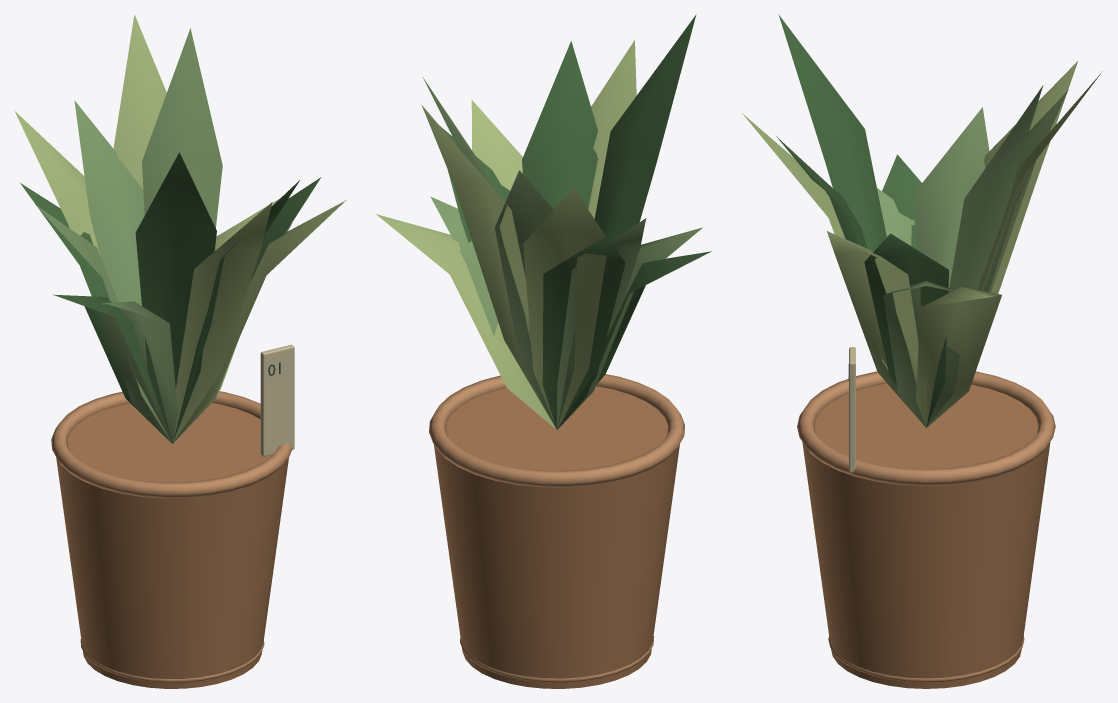
Rendered from plant-a.glb.
The picture shows the model from 3 angles, left to right: view 1: azimuth 30°, elevation 25°; view 2: azimuth 150°, elevation 25°; view 3: azimuth 270°, elevation 25°; orthographic projection. The views are drawn at different scales.
Visible parts, largest first — view 1: plant-a_Plant_Root_0_GH_clay.002, plant-a_Plant_Root_0_GH_leaf.002, plant-a_Plant_Root_0_GH_leaf-light.002, plant-a_Plant_Root_0_GH_leaf-dark.002, plant-a_Plant_Root_0_GH_clay-rim.002, plant-a_Plant_Root_0_GH_ivory-dark.002; view 2: plant-a_Plant_Root_0_GH_clay.002, plant-a_Plant_Root_0_GH_leaf-light.002, plant-a_Plant_Root_0_GH_leaf-dark.002, plant-a_Plant_Root_0_GH_leaf.002, plant-a_Plant_Root_0_GH_clay-rim.002; view 3: plant-a_Plant_Root_0_GH_clay.002, plant-a_Plant_Root_0_GH_leaf.002, plant-a_Plant_Root_0_GH_leaf-light.002, plant-a_Plant_Root_0_GH_leaf-dark.002, plant-a_Plant_Root_0_GH_clay-rim.002, plant-a_Plant_Root_0_GH_ivory-dark.002.
Part boxes in pixels (x1=…): plant-a_Plant_Root_0_GH_clay.002: x1=56, y1=403, x2=288, y2=688; plant-a_Plant_Root_0_GH_leaf.002: x1=36, y1=28, x2=292, y2=443; plant-a_Plant_Root_0_GH_leaf-light.002: x1=14, y1=14, x2=346, y2=443; plant-a_Plant_Root_0_GH_leaf-dark.002: x1=20, y1=152, x2=321, y2=443; plant-a_Plant_Root_0_GH_clay-rim.002: x1=51, y1=391, x2=292, y2=682; plant-a_Plant_Root_0_GH_ivory-dark.002: x1=260, y1=344, x2=294, y2=456; plant-a_Plant_Root_0_GH_clay.002: x1=434, y1=386, x2=679, y2=688; plant-a_Plant_Root_0_GH_leaf-light.002: x1=376, y1=40, x2=636, y2=429; plant-a_Plant_Root_0_GH_leaf-dark.002: x1=439, y1=14, x2=711, y2=429; plant-a_Plant_Root_0_GH_leaf.002: x1=423, y1=77, x2=702, y2=429; plant-a_Plant_Root_0_GH_clay-rim.002: x1=429, y1=374, x2=684, y2=682; plant-a_Plant_Root_0_GH_clay.002: x1=802, y1=383, x2=1050, y2=688; plant-a_Plant_Root_0_GH_leaf.002: x1=877, y1=85, x2=1068, y2=427; plant-a_Plant_Root_0_GH_leaf-light.002: x1=742, y1=61, x2=1102, y2=427; plant-a_Plant_Root_0_GH_leaf-dark.002: x1=776, y1=14, x2=948, y2=427; plant-a_Plant_Root_0_GH_clay-rim.002: x1=797, y1=371, x2=1055, y2=682; plant-a_Plant_Root_0_GH_ivory-dark.002: x1=849, y1=347, x2=855, y2=472.
Size of the model in its own units: 0.3901 by 0.765 by 0.4174.
